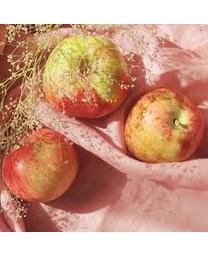apple: (44, 38, 131, 118), (123, 88, 202, 163), (1, 128, 79, 202)
